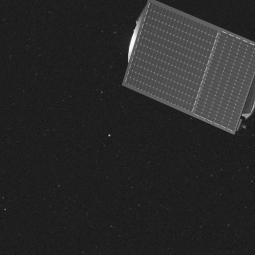cheops: (118, 1, 252, 134)
